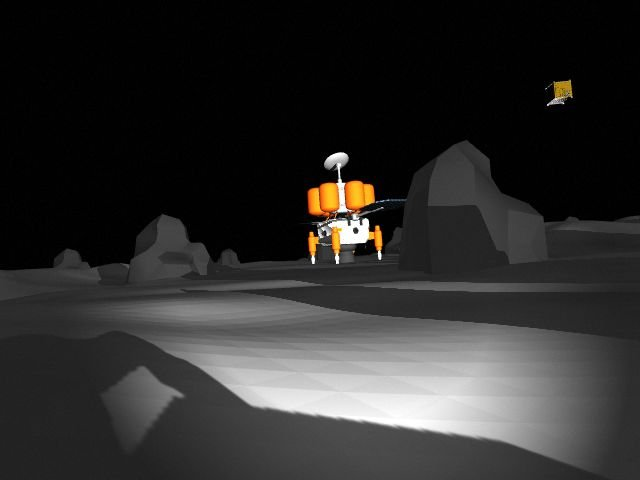homebase: (285, 151, 411, 265)
